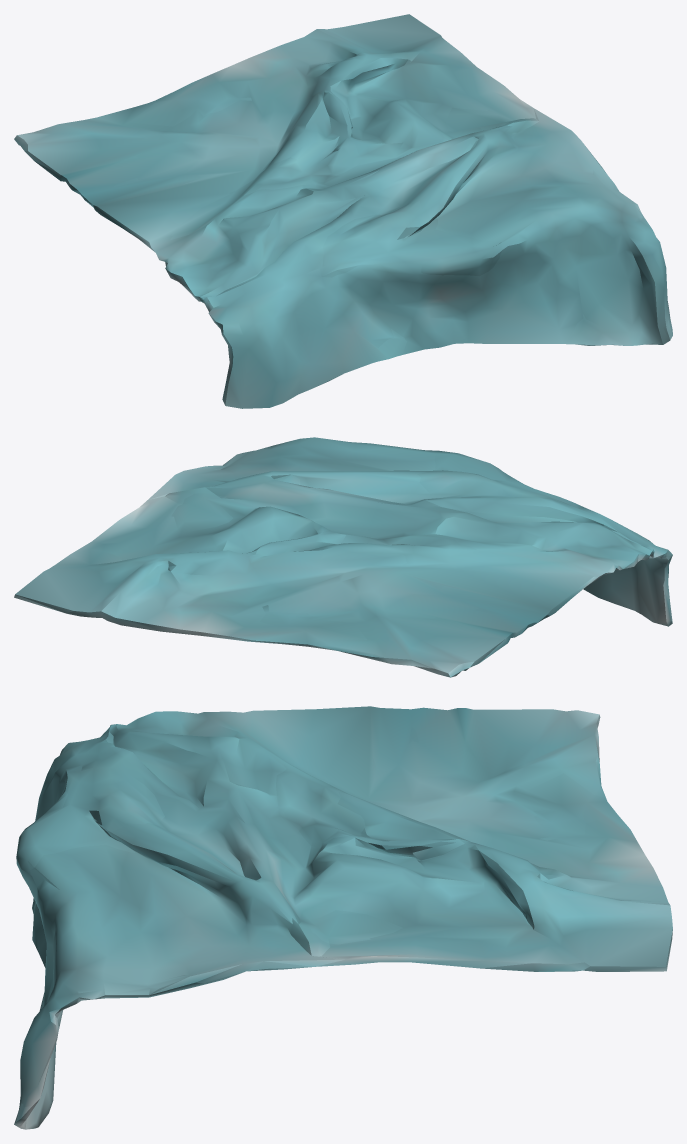
The model's file is Rug01.fbx.
3 views of the same model, one above another, from view 1: azimuth 30°, elevation 25°; view 2: azimuth 150°, elevation 25°; view 3: azimuth 270°, elevation 25° (orthographic). The views are drawn at different scales.
Visible parts, largest first — view 1: Rug; view 2: Rug; view 3: Rug.
Part boxes in pixels (x1,y1,x2,y2): Rug: (14, 14, 672, 408); Rug: (14, 437, 672, 677); Rug: (14, 706, 672, 1129).
Bounding box in the file's own units: 199 × 71.06 × 210.
